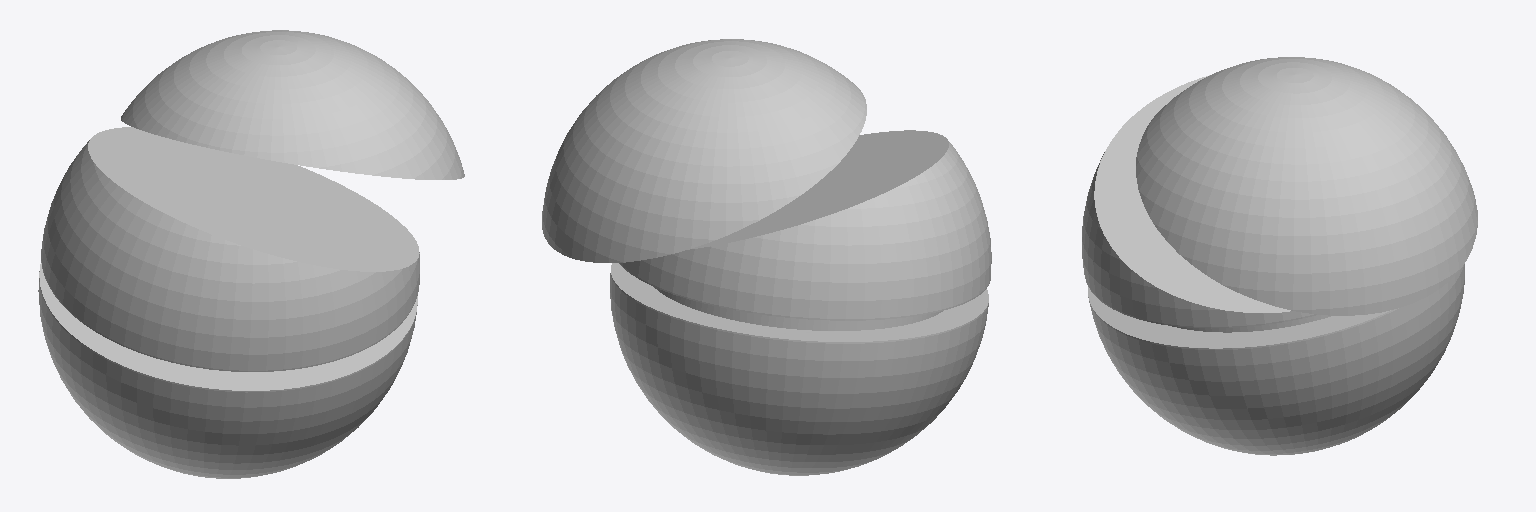
Rendered from Drone166_000005.obj.
3 renders of one model, left to right at view 1: azimuth 30°, elevation 25°; view 2: azimuth 150°, elevation 25°; view 3: azimuth 270°, elevation 25°, orthographic.
Parts seen in each view (by area): view 1: Sphere.006, Sphere.000_Sphere.007; view 2: Sphere.006, Sphere.000_Sphere.007; view 3: Sphere.000_Sphere.007, Sphere.006.
Part boxes in pixels (bbox=[...]): Sphere.006: bbox=[38, 127, 419, 478]; Sphere.000_Sphere.007: bbox=[121, 30, 464, 179]; Sphere.006: bbox=[610, 130, 991, 475]; Sphere.000_Sphere.007: bbox=[542, 39, 866, 262]; Sphere.000_Sphere.007: bbox=[1136, 57, 1477, 315]; Sphere.006: bbox=[1082, 75, 1464, 455].
Bounding box in the file's own units: 2.36 × 2.28 × 2.08.